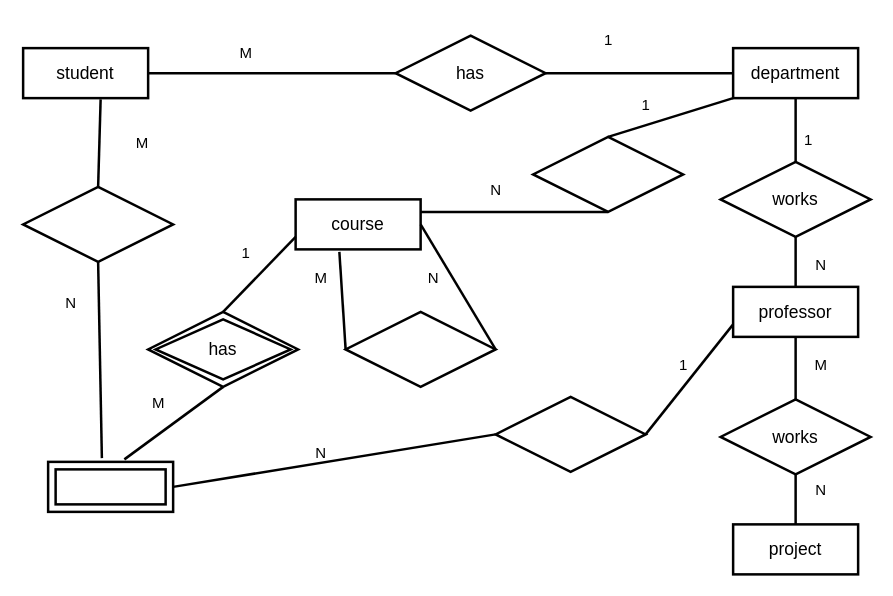
Image size: 893x596. Some labels were removed from this diagram. The centre of each missing label's shape, as x and y in pixels:
enrolls: (x=97, y=223)
offers: (x=607, y=173)
pre-requisite of: (x=420, y=349)
section: (x=110, y=486)
teaches: (x=570, y=433)
